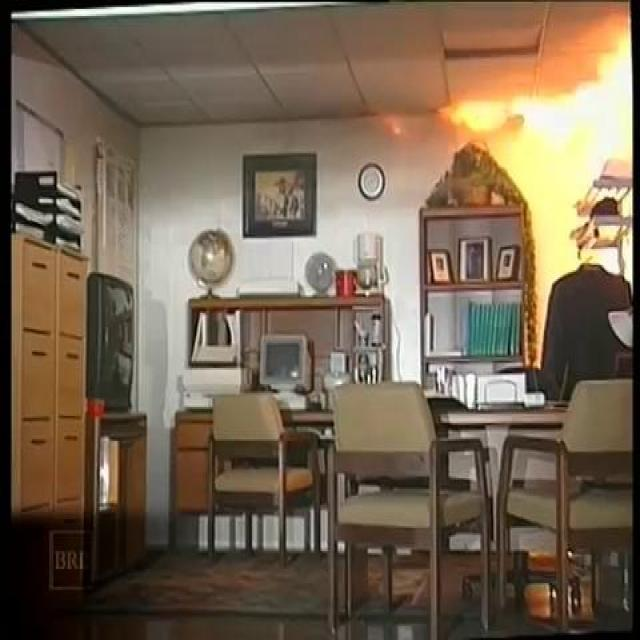Fire: (460, 34, 640, 200)
